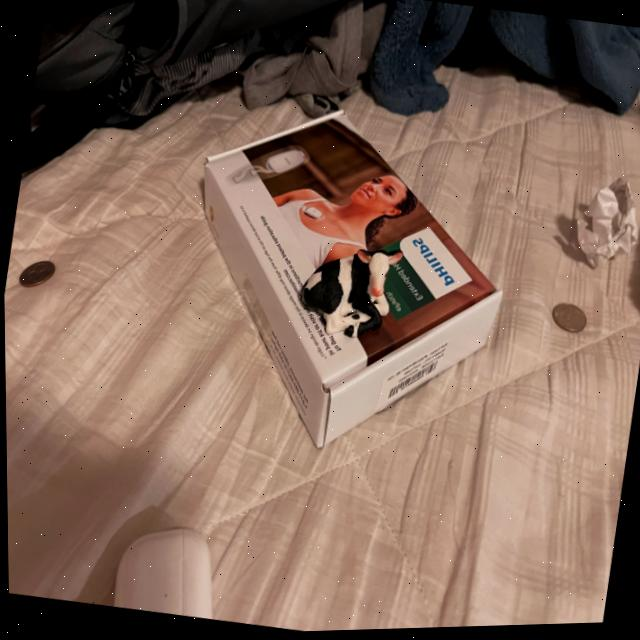cow: (297, 248, 392, 342)
